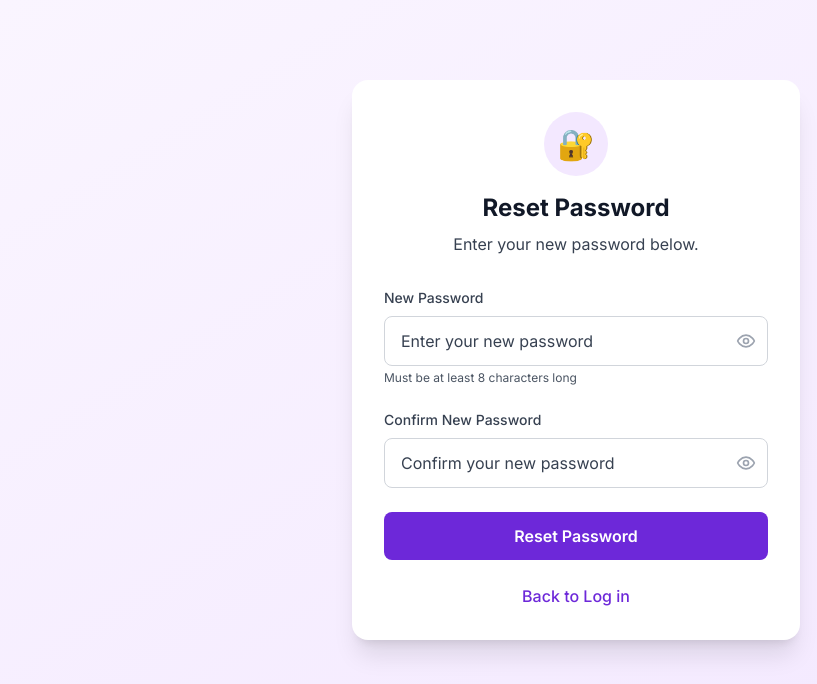
Test: Reset Password Validation › submit mismatched passwords shows confirmPasswordError
Expected: the button with test id "reset-submit" is enabled, [384, 512, 768, 560]
In the password field labelled "New Password": (576, 341) [384, 316, 768, 366], type "password123"
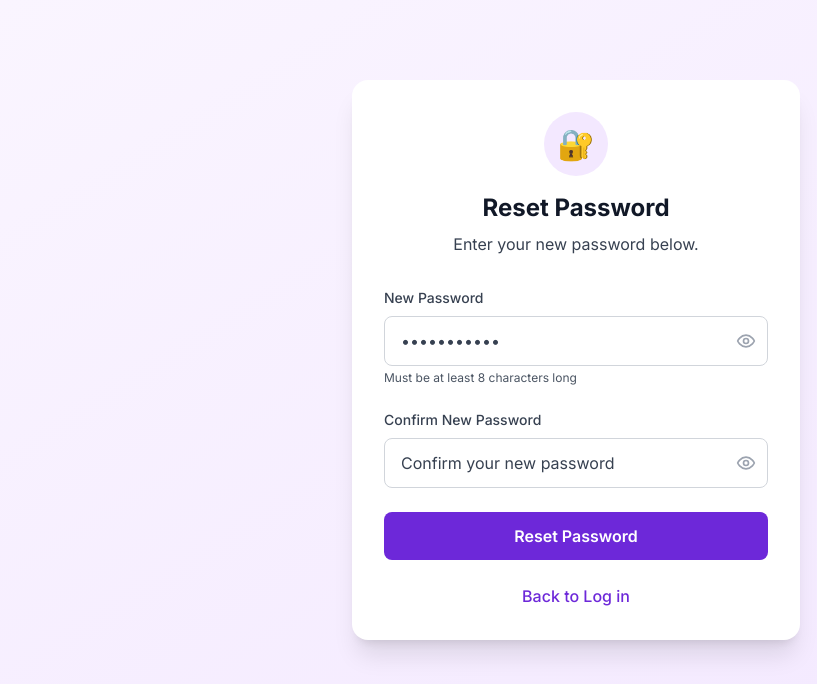
In the password field labelled "Confirm New Password": (576, 463) [384, 438, 768, 488], type "different"
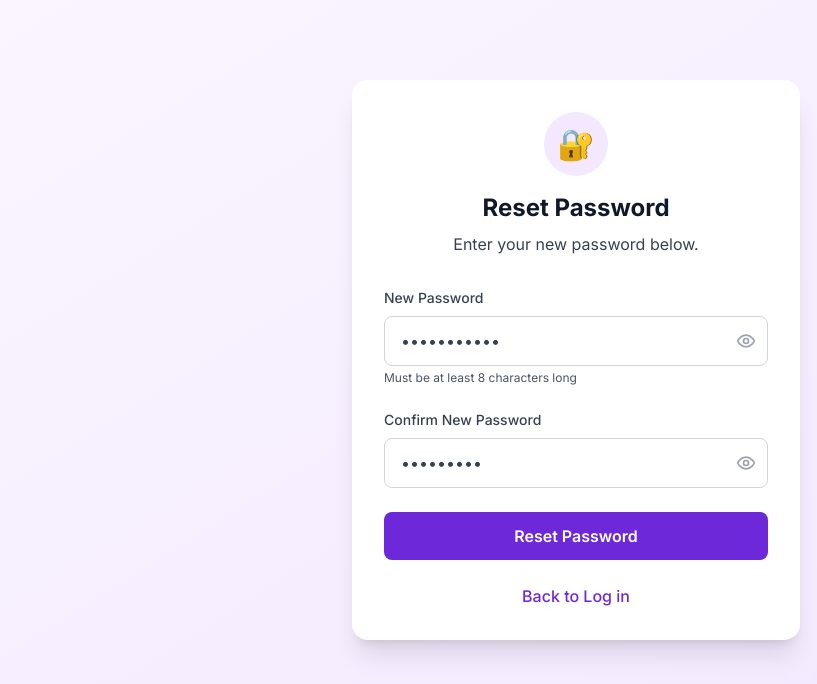
Click the button with test id "reset-submit": (576, 536) [384, 512, 768, 560]
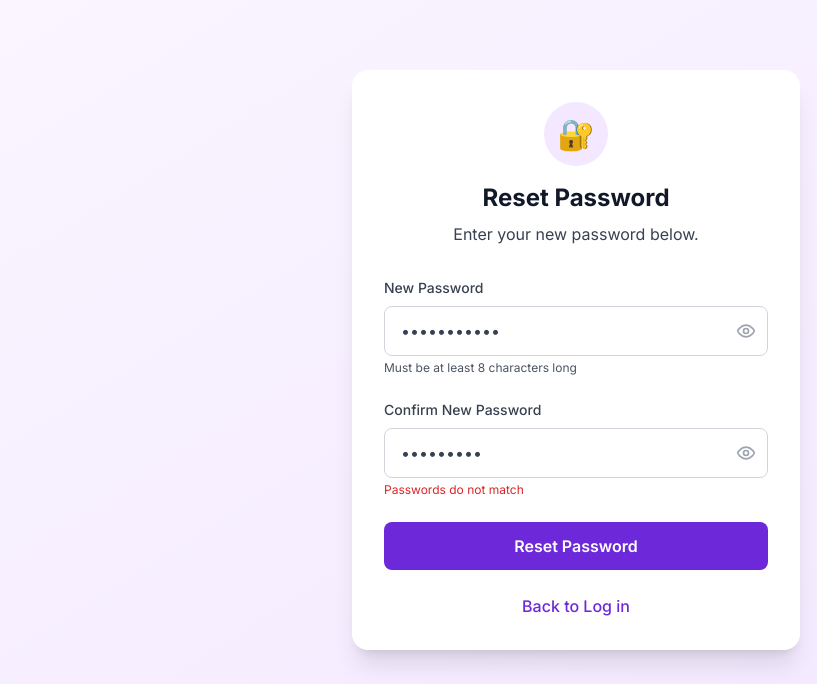
Expected: the text "Passwords do not match" is shown, [384, 482, 524, 497]
